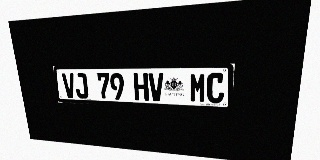7: (96, 73, 111, 99)
9: (109, 73, 125, 100)
C: (206, 73, 225, 103)
H: (133, 73, 149, 101)
J: (74, 73, 89, 99)
M: (190, 73, 207, 103)
V: (148, 73, 164, 101), (62, 73, 76, 98)
